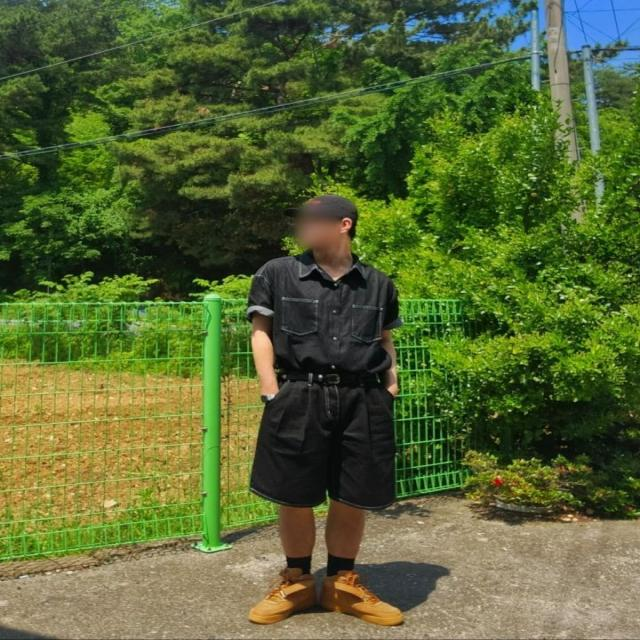shirt: (244, 250, 400, 381)
shortpants: (247, 375, 401, 512)
